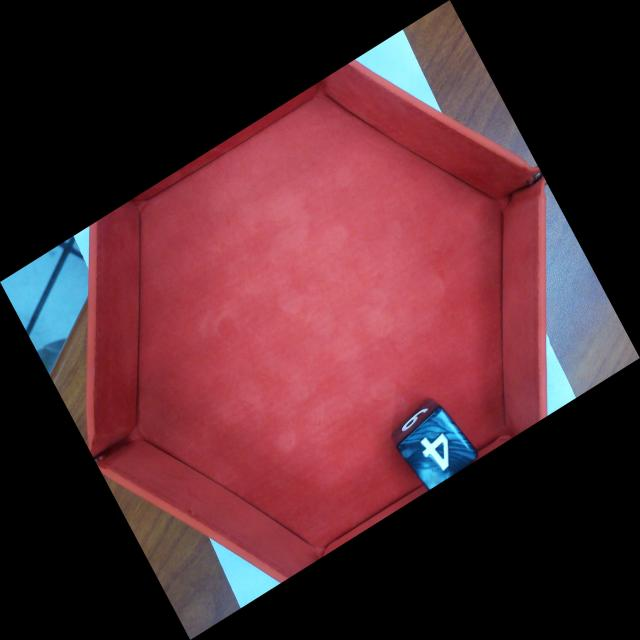dice: (395, 406, 477, 494)
